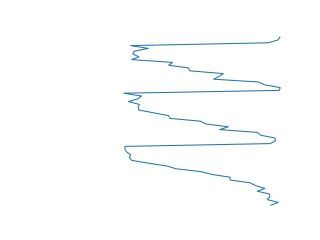distributaryMouthBar: (122, 35, 285, 209)
